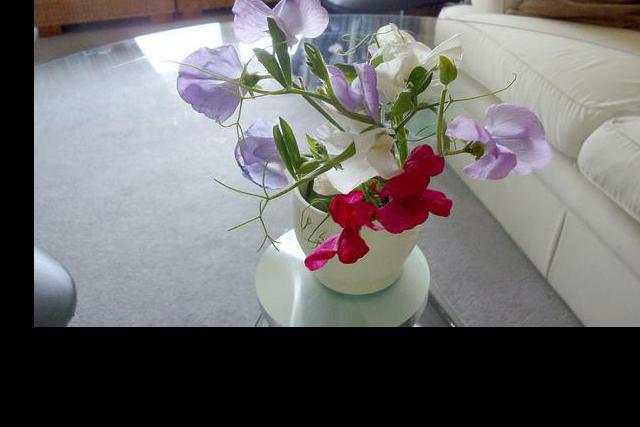Matera: (205, 34, 517, 317)
